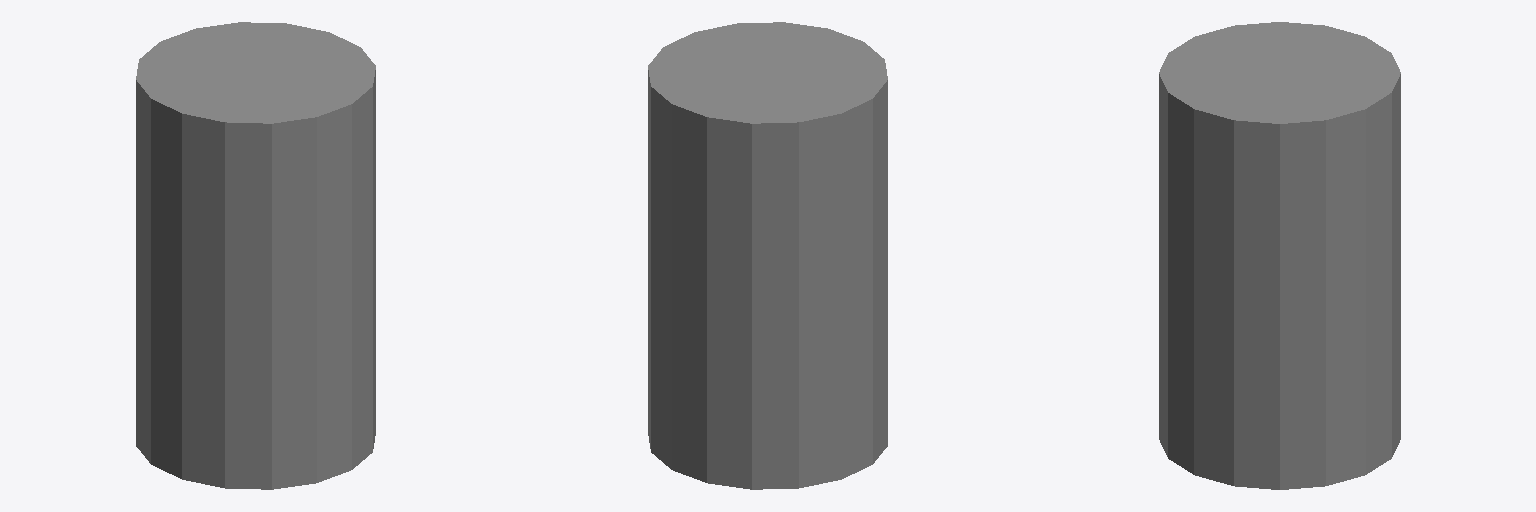
The model's file is oildrum_center.obj.
3 views of the same model, side by side, from view 1: azimuth 30°, elevation 25°; view 2: azimuth 150°, elevation 25°; view 3: azimuth 270°, elevation 25° (orthographic).
Visible parts, largest first — view 1: Cylinder002_Cylinder002Mesh; view 2: Cylinder002_Cylinder002Mesh; view 3: Cylinder002_Cylinder002Mesh.
Boxes of the visible parts, <box> form: Cylinder002_Cylinder002Mesh: <box>136,22,375,489</box>; Cylinder002_Cylinder002Mesh: <box>648,22,887,489</box>; Cylinder002_Cylinder002Mesh: <box>1159,22,1400,489</box>.
Size of the model in its own units: 0.006 by 0.01 by 0.006.